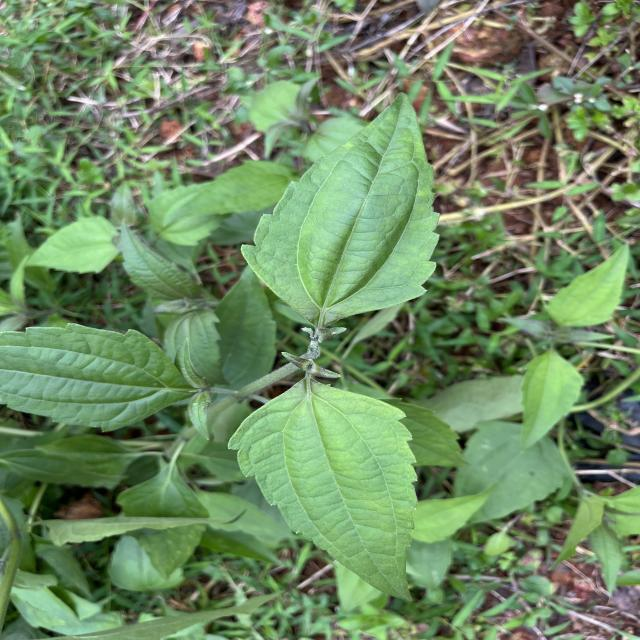Chromolaena odorata: (235, 87, 445, 327), (224, 374, 423, 606)
